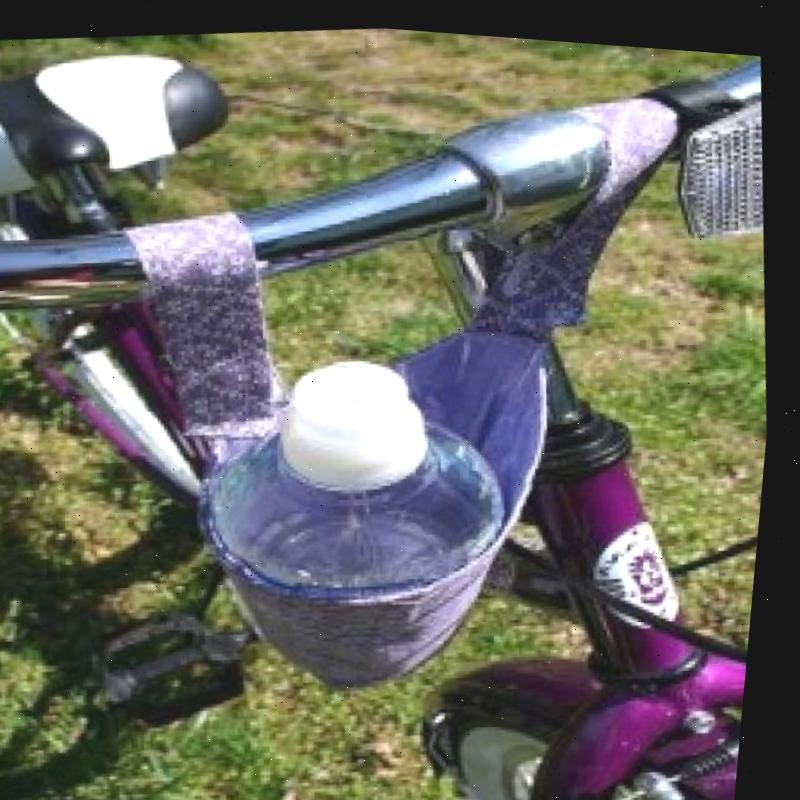botella: (197, 331, 531, 602)
